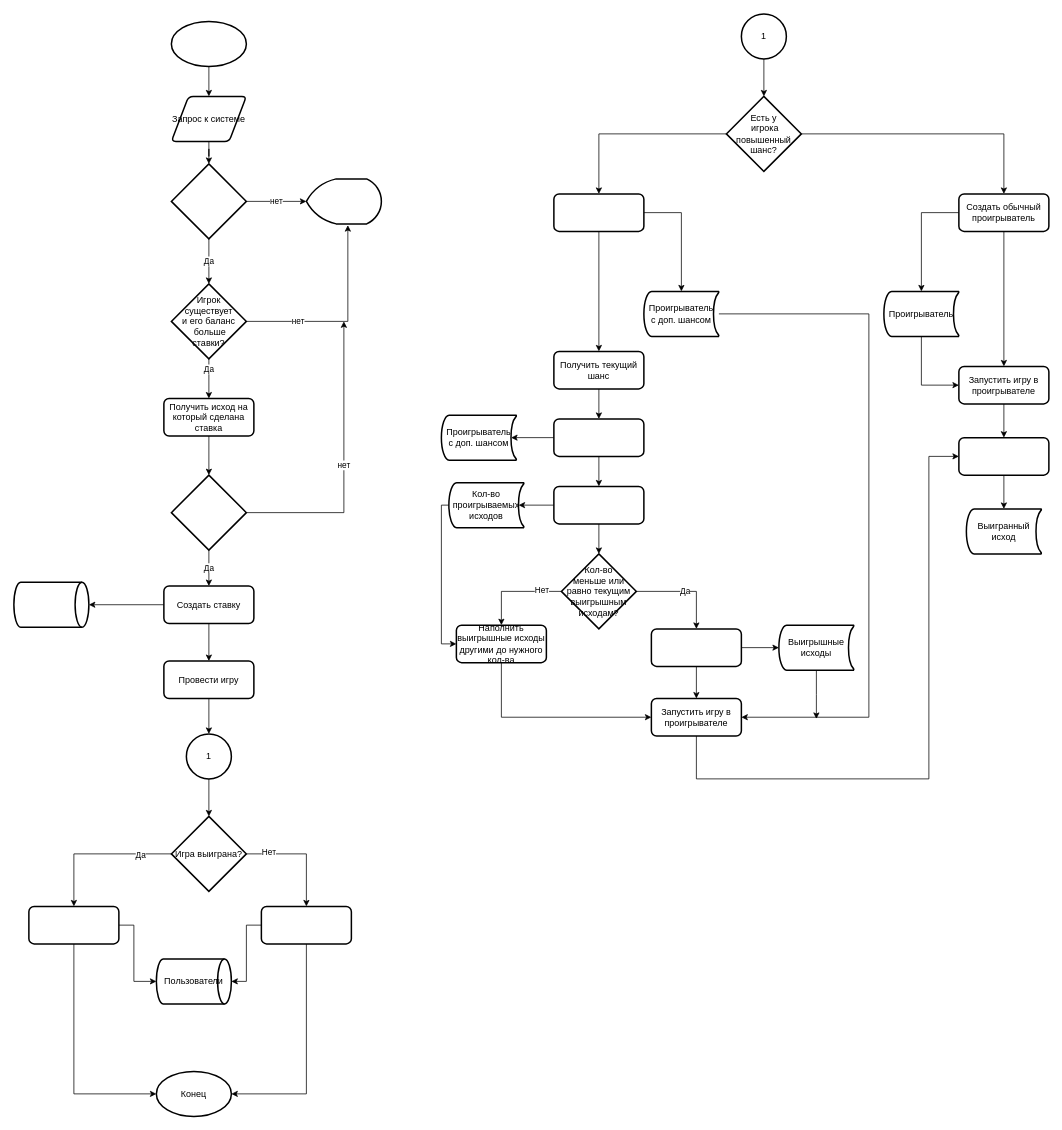
Image size: 1062x1130. Some labels were removed from this diagram. Each missing label, with the centre of its shape:
"Вернуть случайный исход" goes at pixel 1003 456.
"Вычесть размер ставки из баланса" goes at pixel 306 924.
"Запомнить выигрышные исходы" goes at pixel 696 647.
"Исход успешно получен?" goes at pixel 208 512.
"Начало" goes at pixel 208 43.
"Ошибка верификации ставки" goes at pixel 343 201.
"Получить кол-во проигрываемых исходов" goes at pixel 598 504.
"Посчитать добавочный шанс" goes at pixel 598 437.
"Размер ставки допустим?" goes at pixel 208 201.
"Создать проигрыватель с повышенным шнасом" goes at pixel 598 212.
"Ставки" goes at pixel 51 604.
"Увеличить баланс в соответствии с исхода" goes at pixel 73 924.
